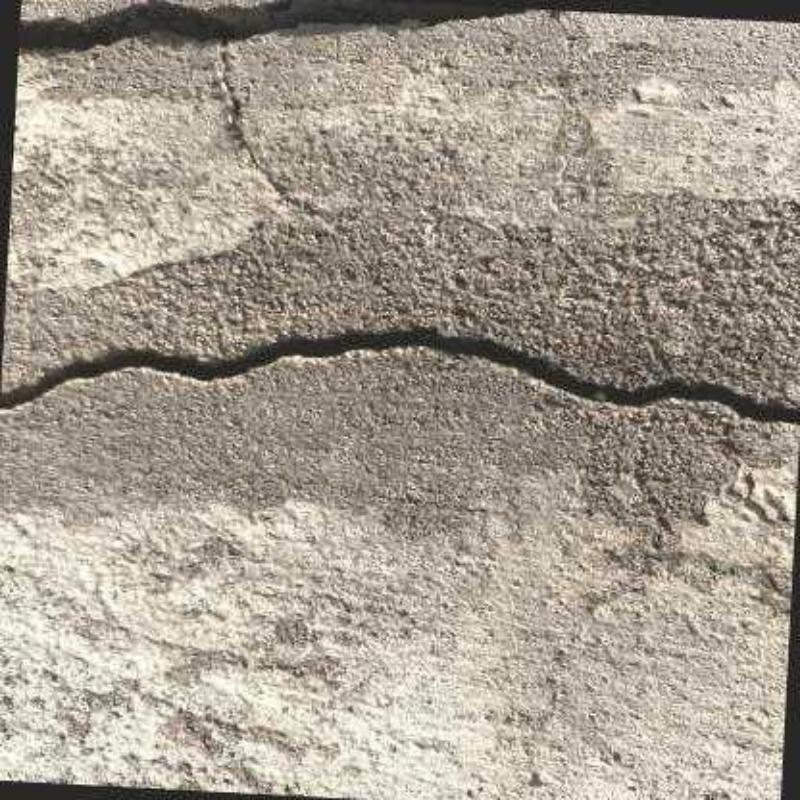pothole: (21, 0, 541, 216), (0, 321, 800, 423)
